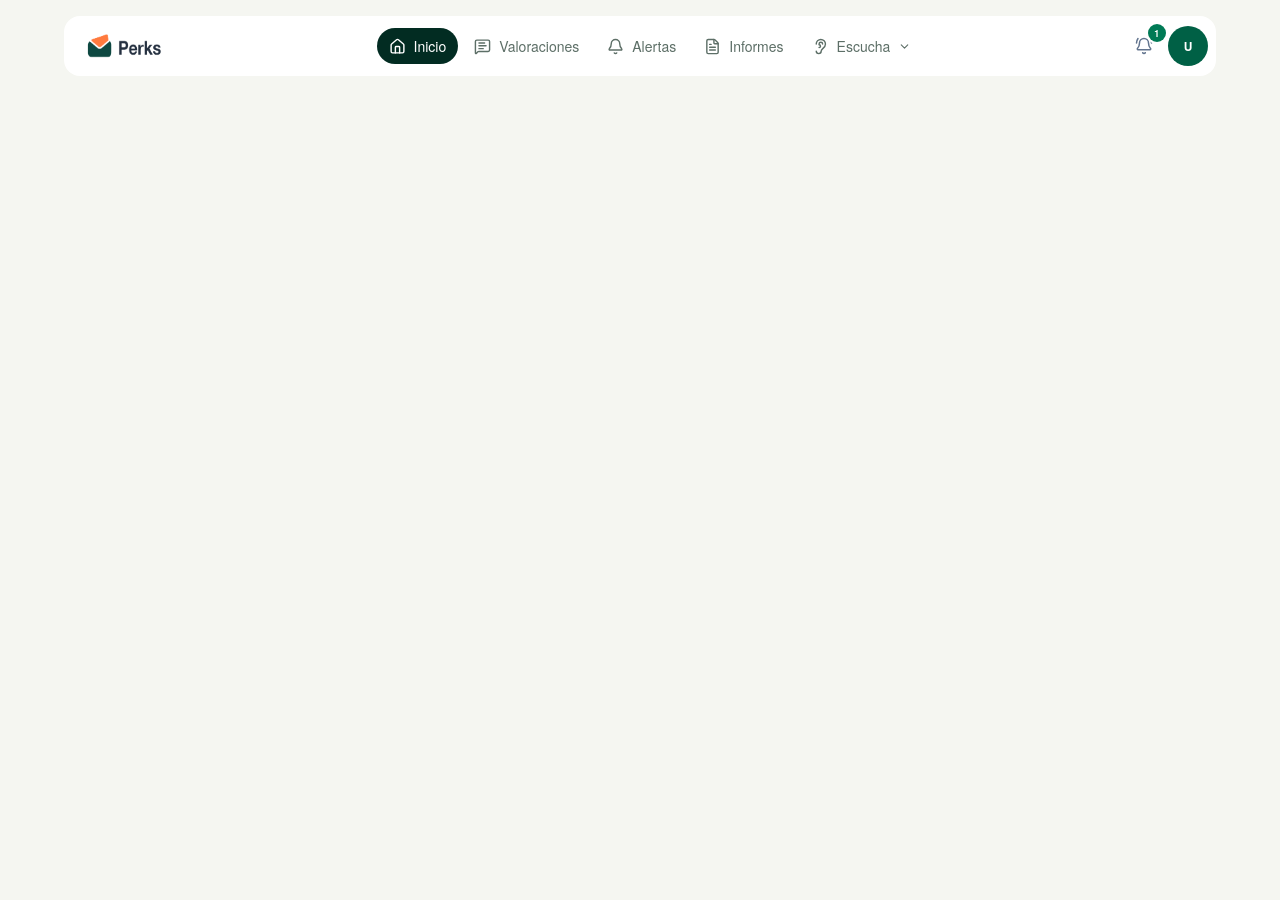
Test: DashboardFloatingNav › allows deleting a notification from the popover
This screenshot has width=1280, height=900.
Click the button named "notificaciones" at (1144, 46), box [1124,26,1164,66]
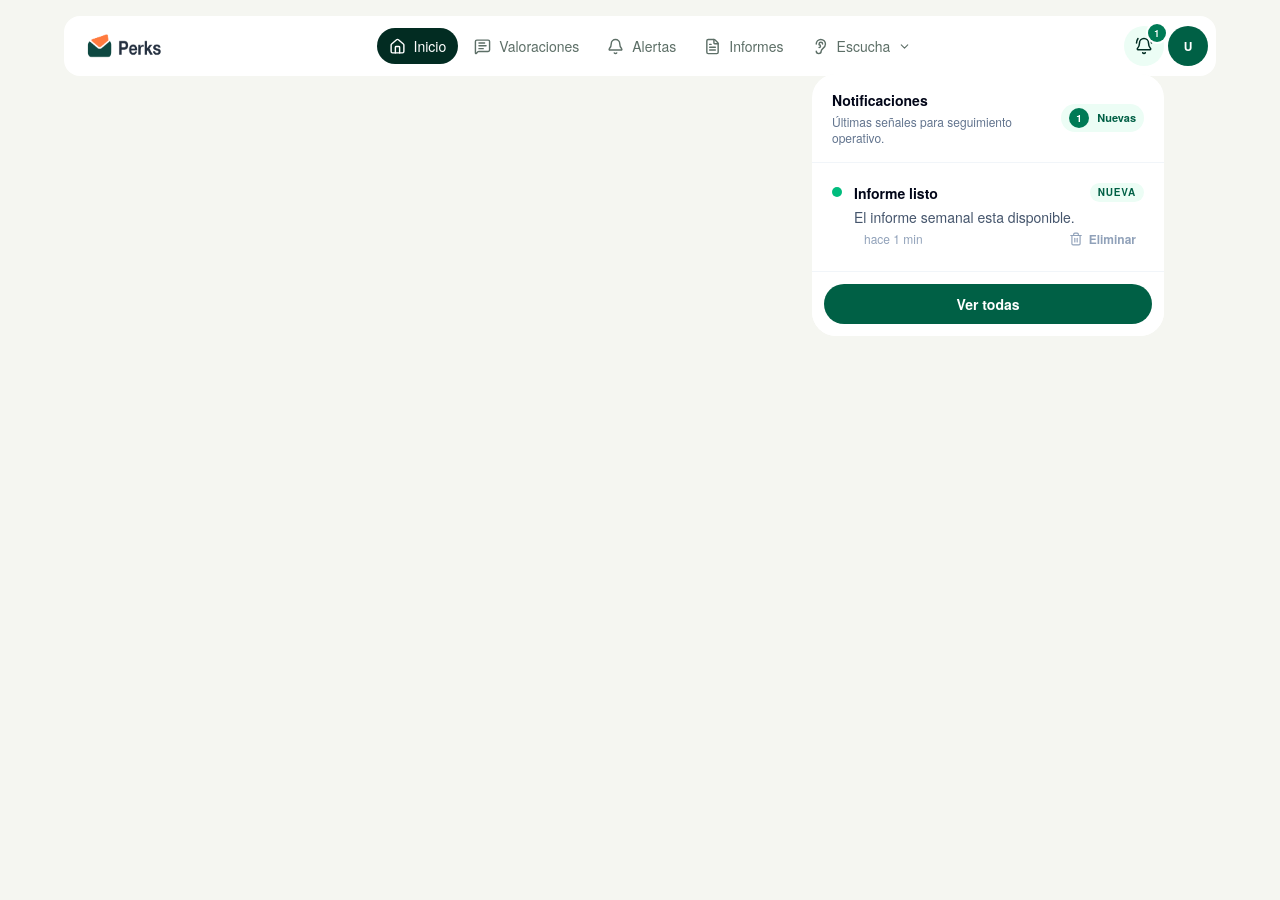
Expected: the text "Informe listo" is shown, [854,183,938,203]
Expected: the button "Ver todas" is shown, [824,284,1152,324]
Click the button with aria-label "eliminar notificacion: informe listo" at (1102, 239), box [1061,227,1144,251]
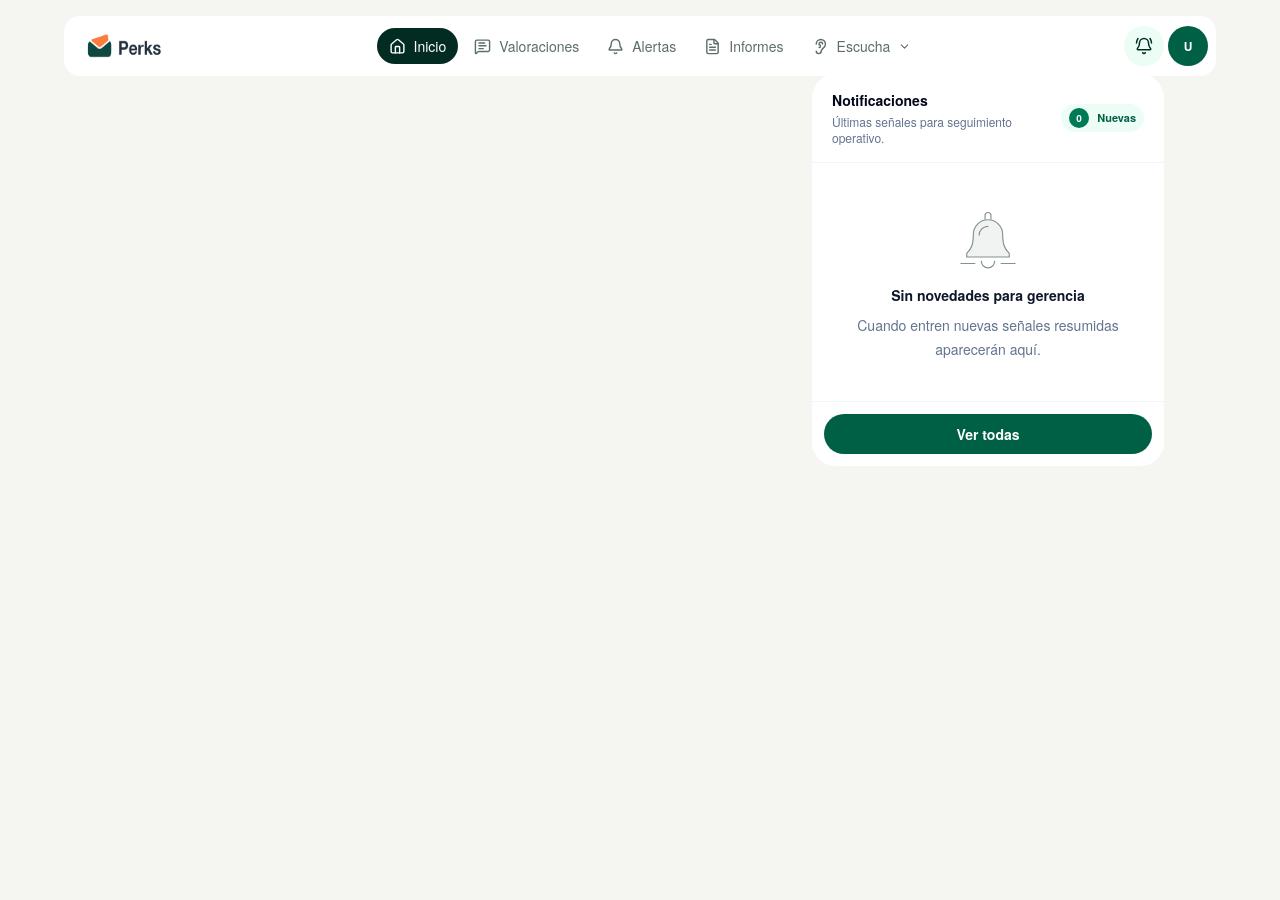
Expected: the link "Informe listo" is gone
